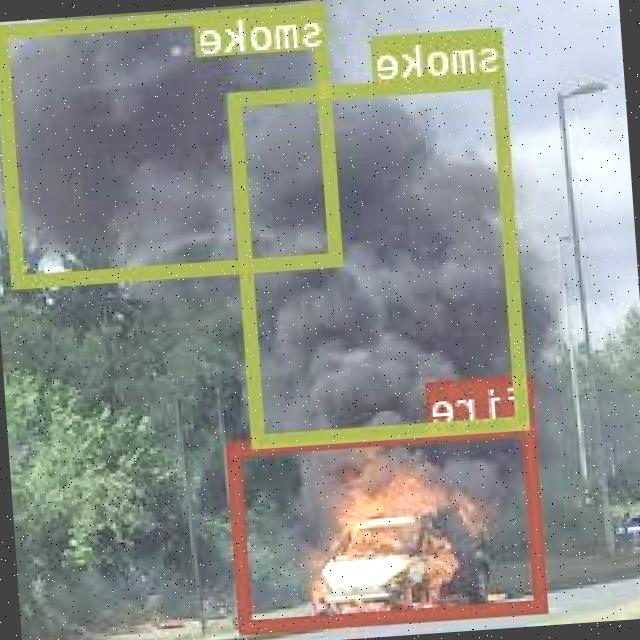fire: (231, 418, 548, 630)
smoke: (230, 72, 531, 446), (0, 1, 344, 284)
